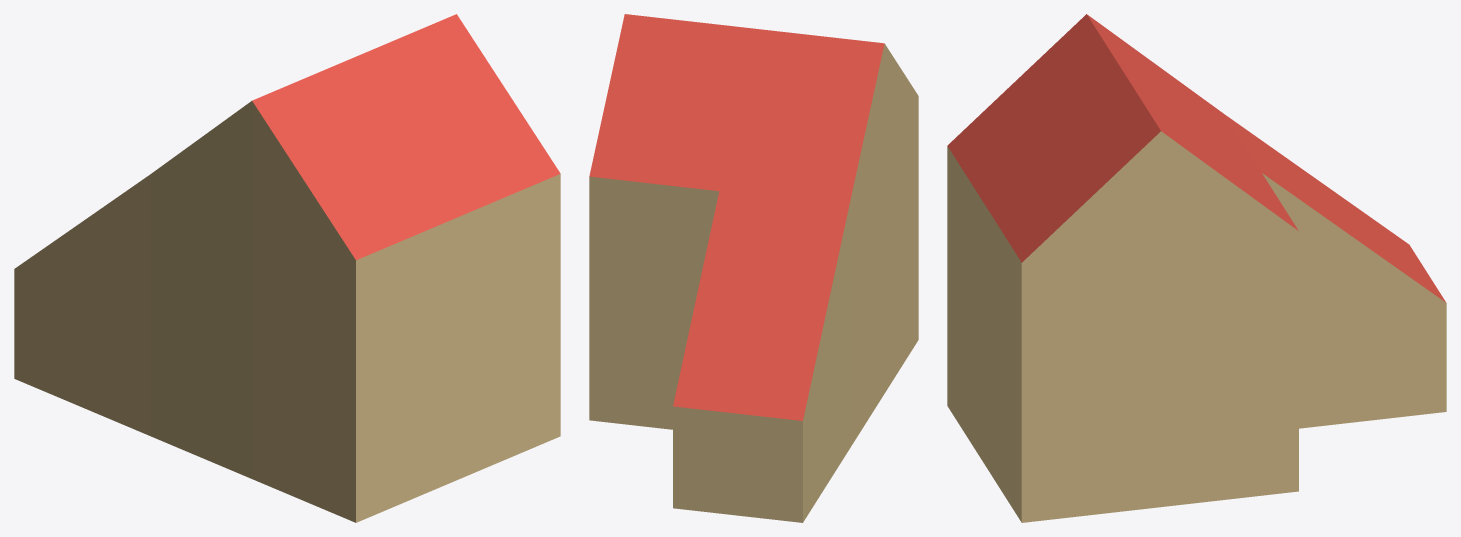
Rendered from house3.fbx.
The picture shows the model from 3 angles, left to right: view 1: azimuth 30°, elevation 25°; view 2: azimuth 150°, elevation 25°; view 3: azimuth 270°, elevation 25°; orthographic projection. The views are drawn at different scales.
Visible parts, largest first — view 1: Cube.003; view 2: Cube.003; view 3: Cube.003.
Boxes of the visible parts, x1,y1,x2,y2 form: Cube.003: [14, 14, 560, 522]; Cube.003: [589, 14, 918, 522]; Cube.003: [947, 14, 1446, 522].
Bounding box in the file's own units: 791 × 817 × 985.
